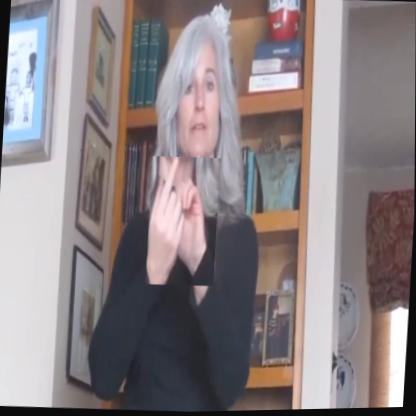NiceToMeetYou: (145, 156, 220, 288)
